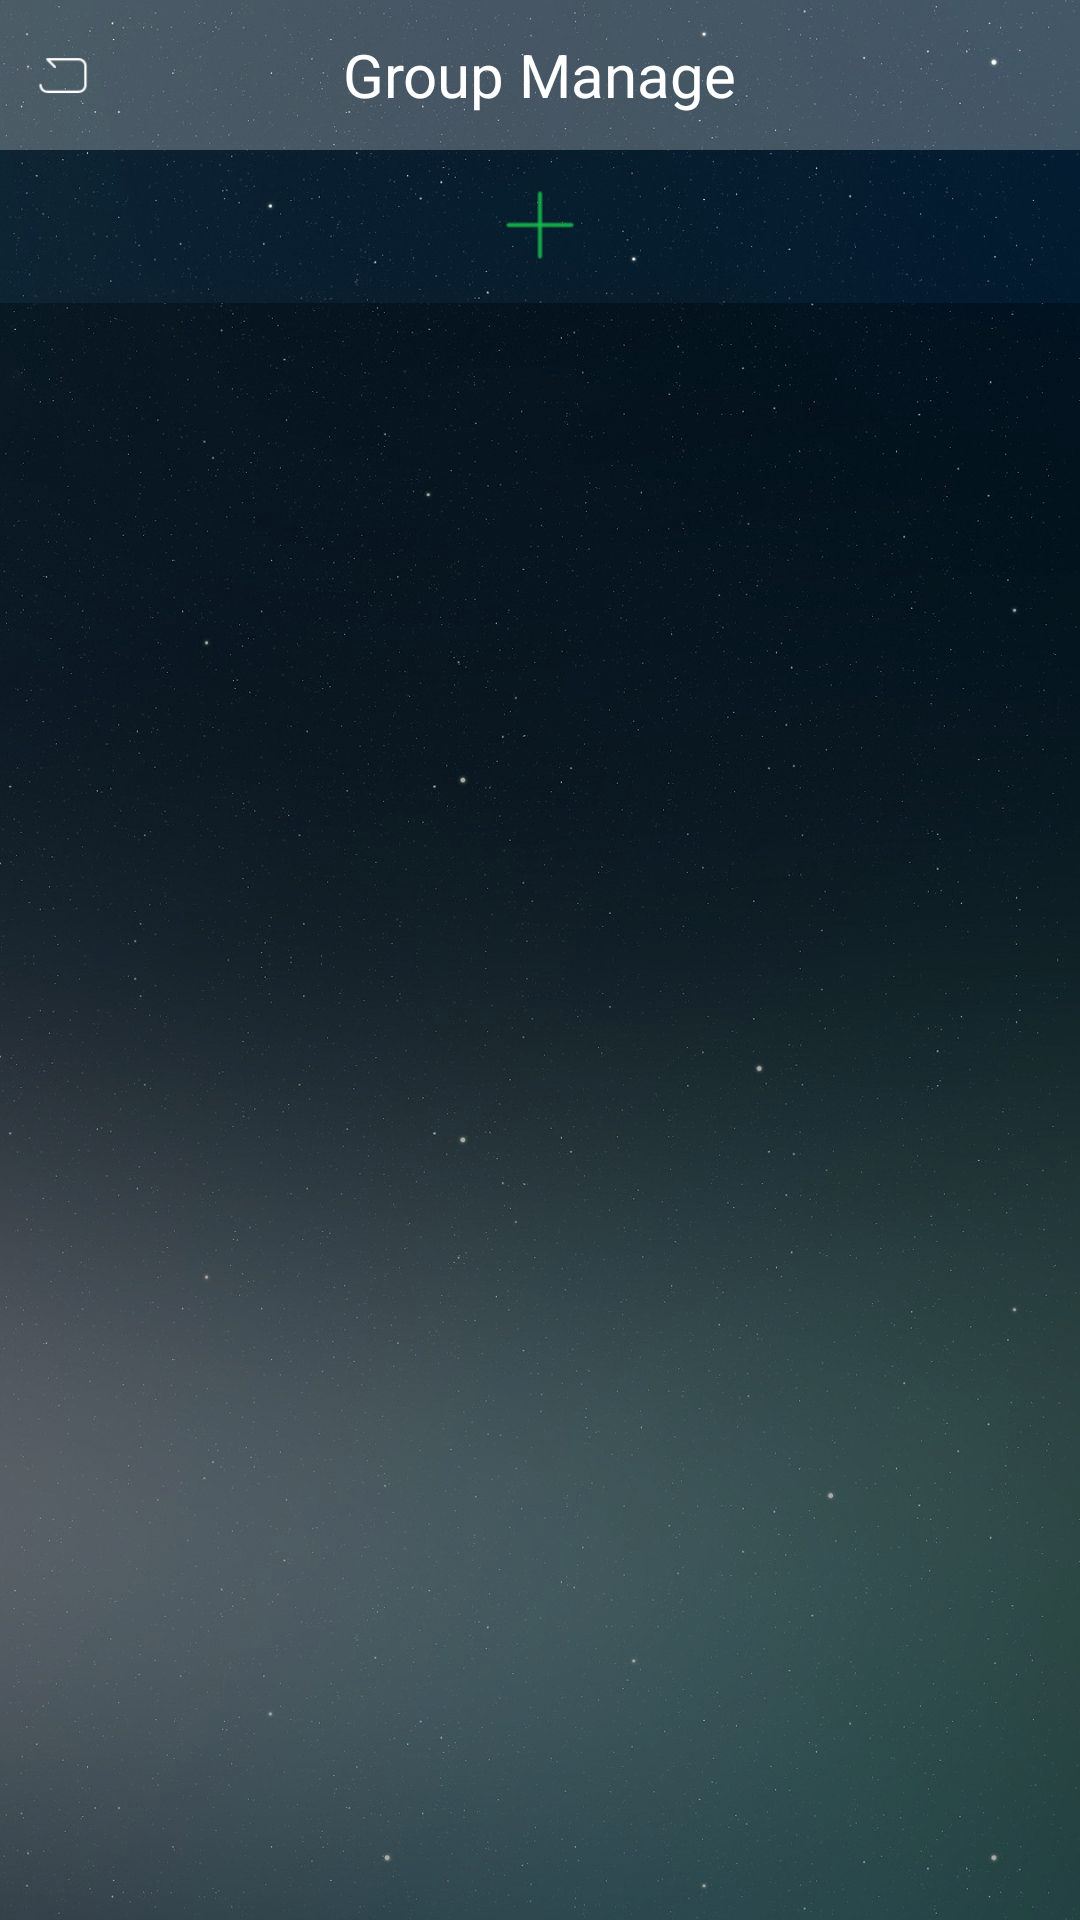

Screen size 1080px×1920px. Icon name, then its box in pixels as (x1, y1, x2, y2):
add: (496, 191, 585, 259)
back: (31, 58, 87, 104)
